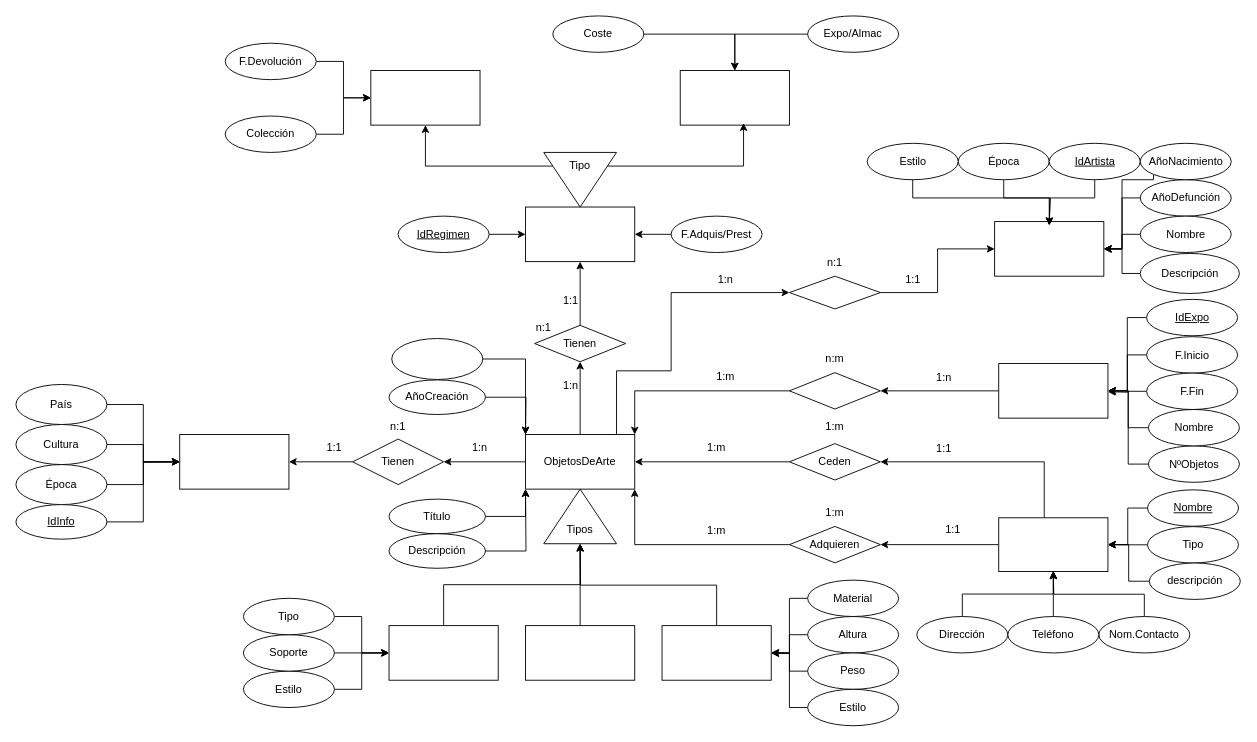
The diagram is 1257 pixels wide and 742 high, and some of its shapes have lost their labels. The centre of each missing label's shape, as x and y in pixels:
Artistas: point (1049, 248)
Colecciones: point (1053, 544)
Creados: point (834, 292)
Escultura: point (716, 652)
Exposiciones: point (1053, 390)
IdObjeto: point (437, 358)
InformaciónOrigen: point (234, 461)
Muestran: point (834, 390)
Otros: point (580, 652)
Permanente: point (734, 97)
Pintura: point (443, 652)
Préstamo: point (425, 97)
RegímenesPosesión: point (580, 234)
